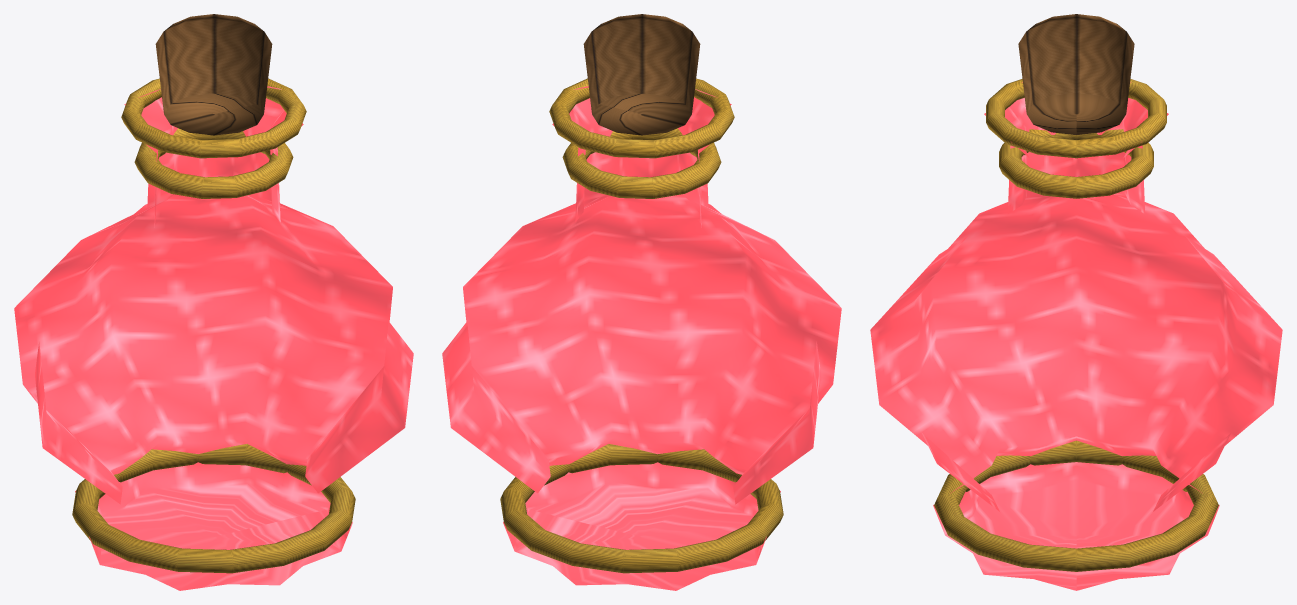
File: potion.glb
3 views of the same model, side by side, from view 1: azimuth 30°, elevation 25°; view 2: azimuth 150°, elevation 25°; view 3: azimuth 270°, elevation 25° (orthographic).
Visible parts, largest first — view 1: HealingPotionFlask; view 2: HealingPotionFlask; view 3: HealingPotionFlask.
Boxes of the visible parts, left/top/right/bottom form: HealingPotionFlask: left=14, top=14, right=413, bottom=590; HealingPotionFlask: left=442, top=14, right=841, bottom=590; HealingPotionFlask: left=870, top=14, right=1282, bottom=590.
Size of the model in its own units: 14.9 by 20 by 14.9.
3 materials, 3 textured.
